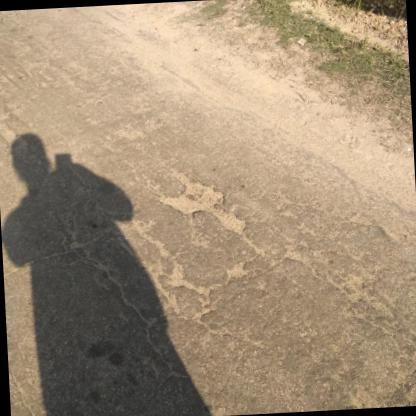pothole: (158, 168, 248, 238), (223, 259, 249, 282)
